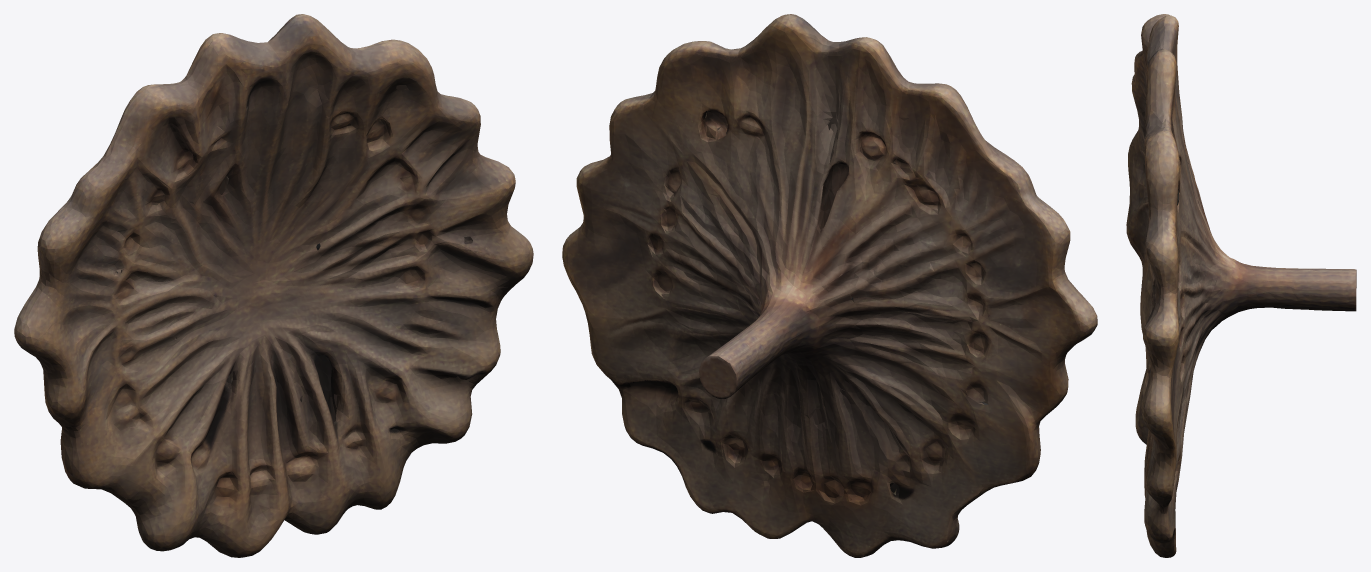
The picture shows the model from 3 angles, left to right: view 1: azimuth 30°, elevation 25°; view 2: azimuth 150°, elevation 25°; view 3: azimuth 270°, elevation 25°; orthographic projection. The views are drawn at different scales.
Parts seen in each view (by area): view 1: world; view 2: world; view 3: world.
Part boxes in pixels (<box>): world: <box>14,14,533,557</box>; world: <box>562,14,1097,557</box>; world: <box>1126,14,1356,557</box>.
Size of the model in its own units: 0.9796 by 0.9402 by 0.4073.
1 material, 1 textured.
